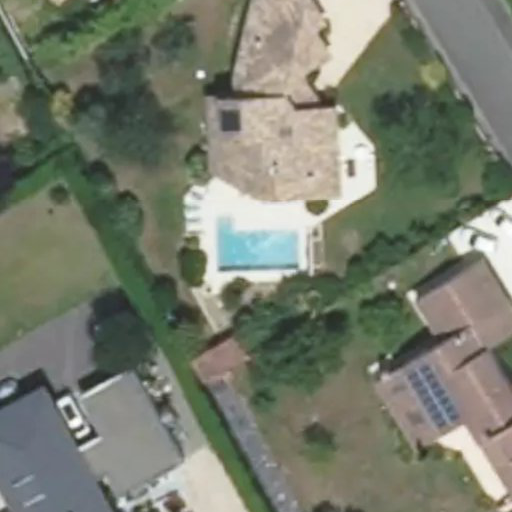pool: (214, 212, 297, 270)
